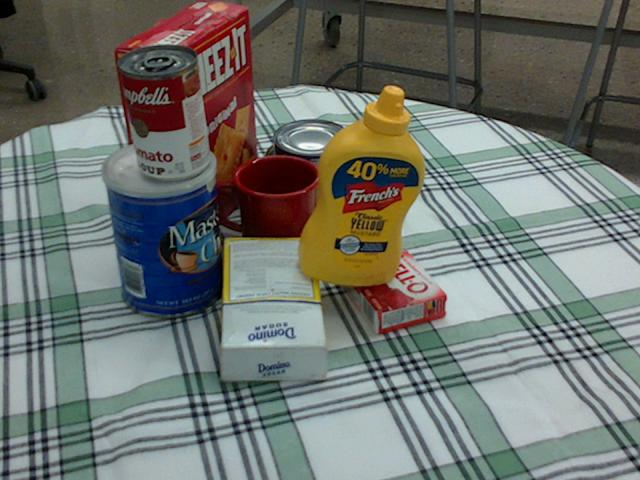cracker_box: (113, 1, 257, 247)
gelatin_box: (340, 249, 445, 334)
master_chef_can: (99, 138, 225, 318)
mug: (210, 153, 320, 257)
mustard_bottle: (297, 84, 424, 285)
potted_meat_can: (261, 138, 349, 214)
sugar_box: (222, 236, 329, 380)
tomato_soup_can: (119, 43, 209, 179)
tuna_fish_can: (271, 119, 348, 180)
